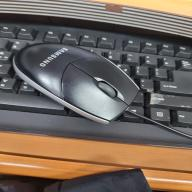mouse: (11, 41, 141, 124)
